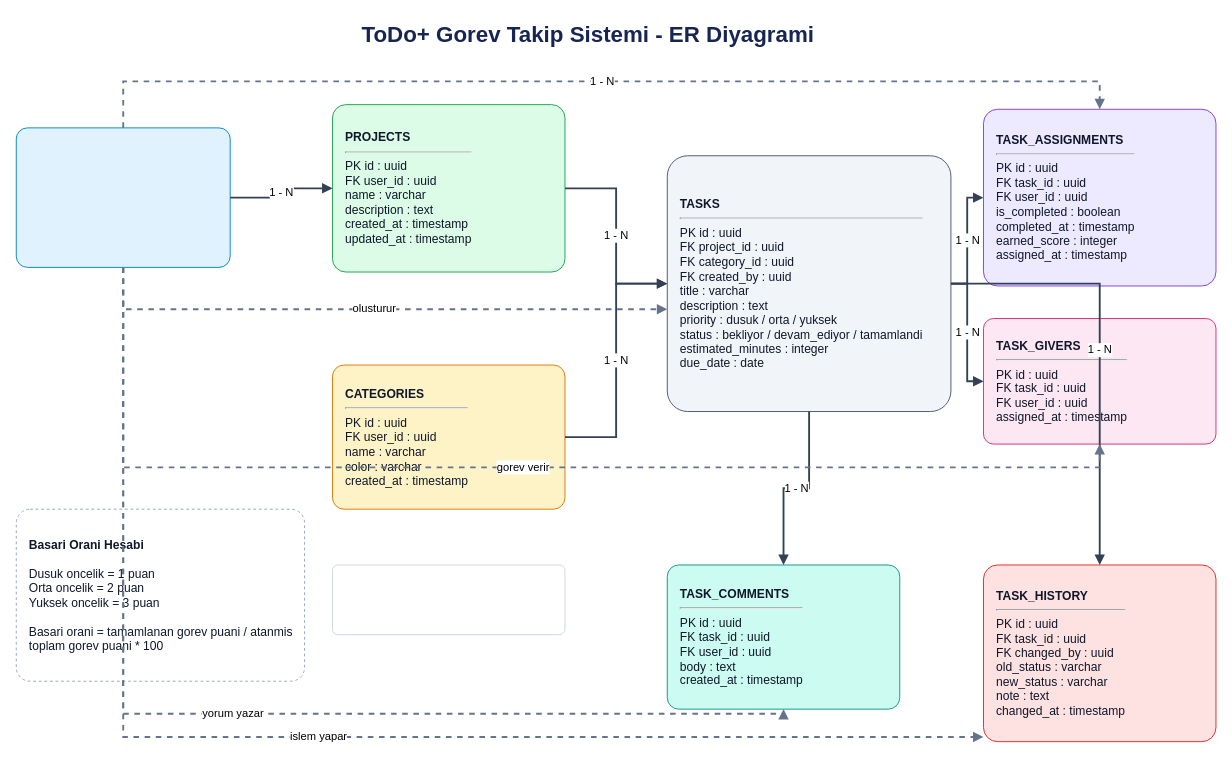
The diagram is 1232 pixels wide and 761 high, and some of its shapes have lost their labels. The shapes that lost their labels are listed below. From the top down, each one's centre as x and y in pixels, then its label:
At point (122, 197): "USERS PK id : uuid full_name : varchar email : varchar created_at : timestamp".
At point (448, 599): "PK = Primary Key / Birincil Anahtar FK = Foreign Key / Iliski Anahtari".
